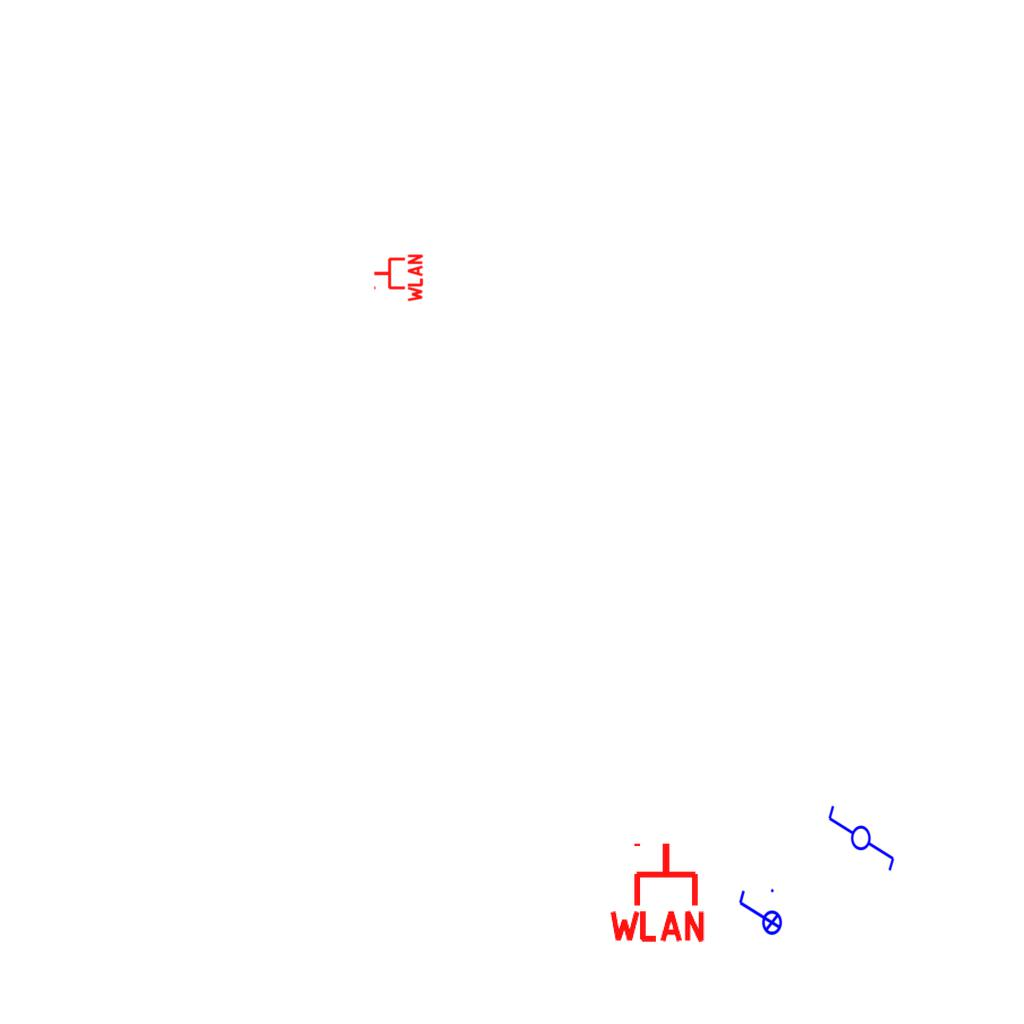Ausschalter_beleuchtet: (735, 886, 783, 942)
WLAN: (605, 839, 709, 944), (372, 252, 424, 304)
Wechselschalter: (826, 795, 898, 873)
